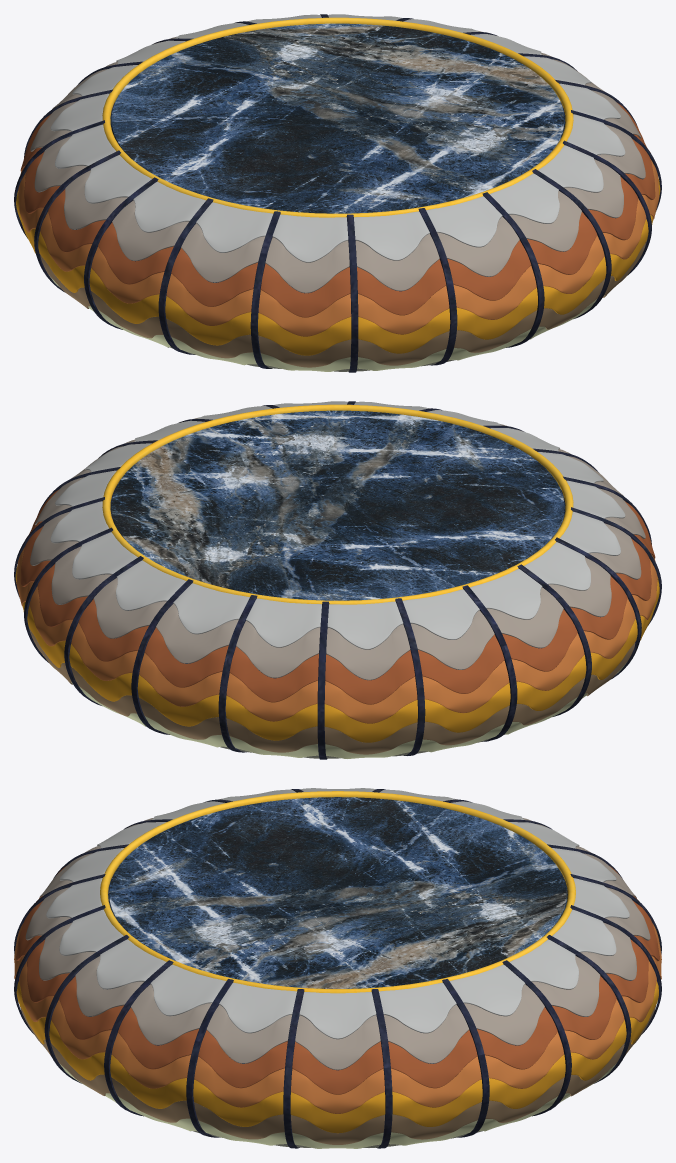
Rendered from SLN_Fruits_of_Paradise_BIG.glb.
The picture shows the model from 3 angles, top to bottom: view 1: azimuth 30°, elevation 25°; view 2: azimuth 150°, elevation 25°; view 3: azimuth 270°, elevation 25°; orthographic projection.
Parts seen in each view (by area): view 1: Fruits_of_Paradise_BIG; view 2: Fruits_of_Paradise_BIG; view 3: Fruits_of_Paradise_BIG.
Boxes of the visible parts, x1,y1,x2,y2 form: Fruits_of_Paradise_BIG: (14, 14, 661, 372); Fruits_of_Paradise_BIG: (14, 401, 661, 759); Fruits_of_Paradise_BIG: (14, 788, 661, 1148).
Size of the model in its own units: 0.9674 by 0.2566 by 0.9674.
Materials: 14 (4 with a texture image).
